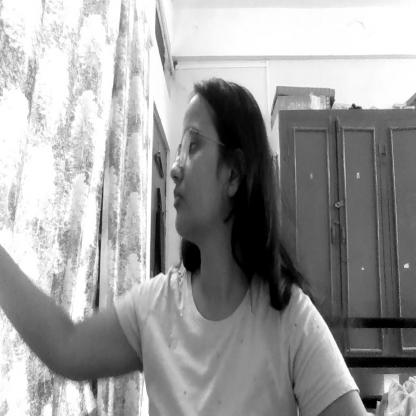Distracted: (171, 87, 242, 248)
